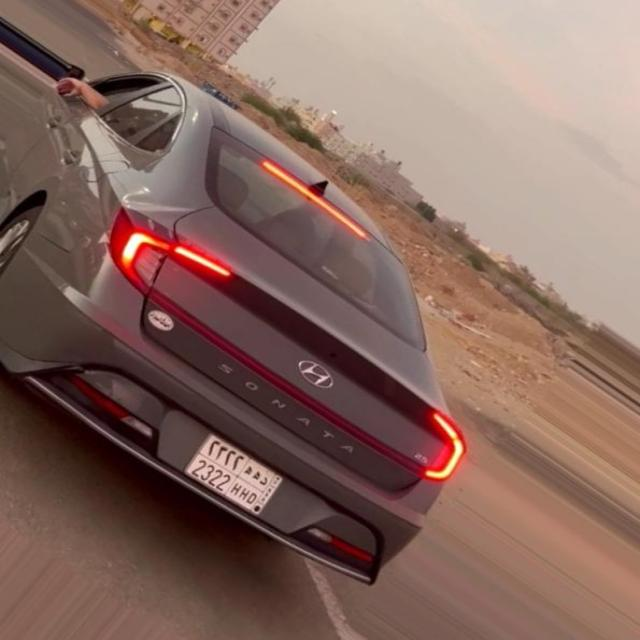Car-plate: (181, 419, 291, 528)
